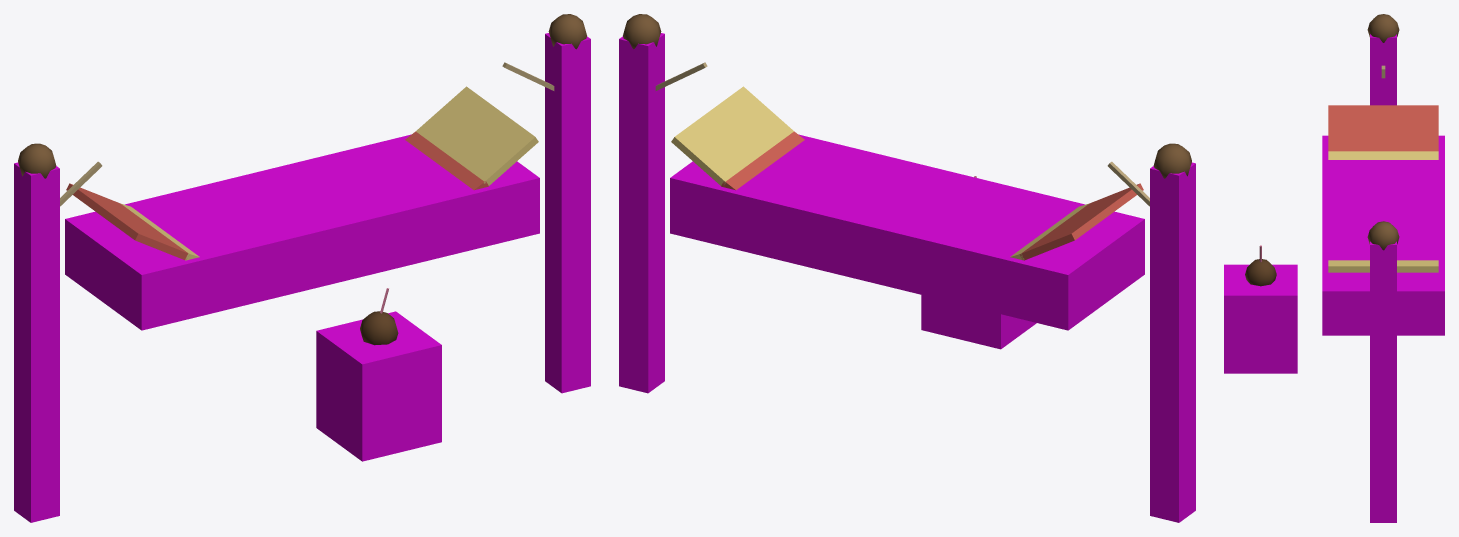
Rendered from hammock.glb.
3 renders of one model, left to right at view 1: azimuth 30°, elevation 25°; view 2: azimuth 150°, elevation 25°; view 3: azimuth 270°, elevation 25°, orthographic. The views are drawn at different scales.
Parts seen in each view (by area): view 1: COL_hammock, COLP_hammock, hammock; view 2: COL_hammock, COLP_hammock, hammock; view 3: COL_hammock, COLP_hammock, hammock.
Boxes of the visible parts, x1,y1,x2,y2 form: COL_hammock: (65,134,539,461); COLP_hammock: (14,33,590,522); hammock: (18,14,586,345); COL_hammock: (670,134,1144,349); COLP_hammock: (619,33,1195,522); hammock: (623,14,1191,260); COL_hammock: (1224,135,1444,373); COLP_hammock: (1370,34,1396,522); hammock: (1245,14,1438,286).
Bounding box in the file's own units: 4.26 × 2.65 × 1.8.
